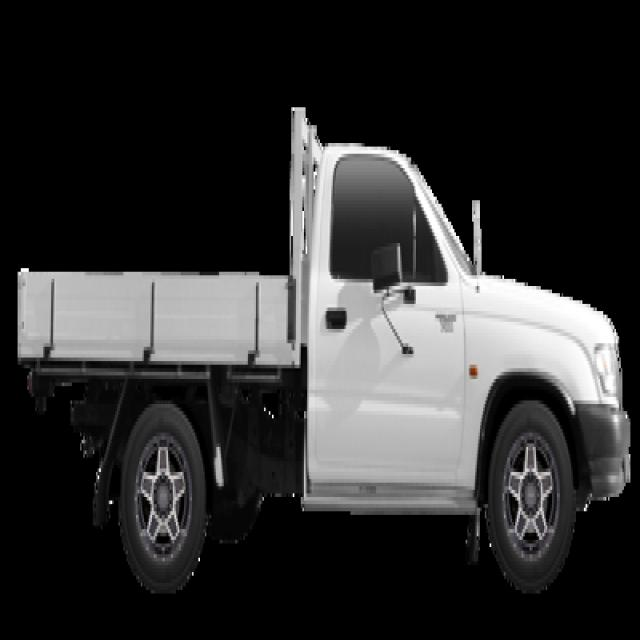light_vehicle: (13, 83, 635, 636)
